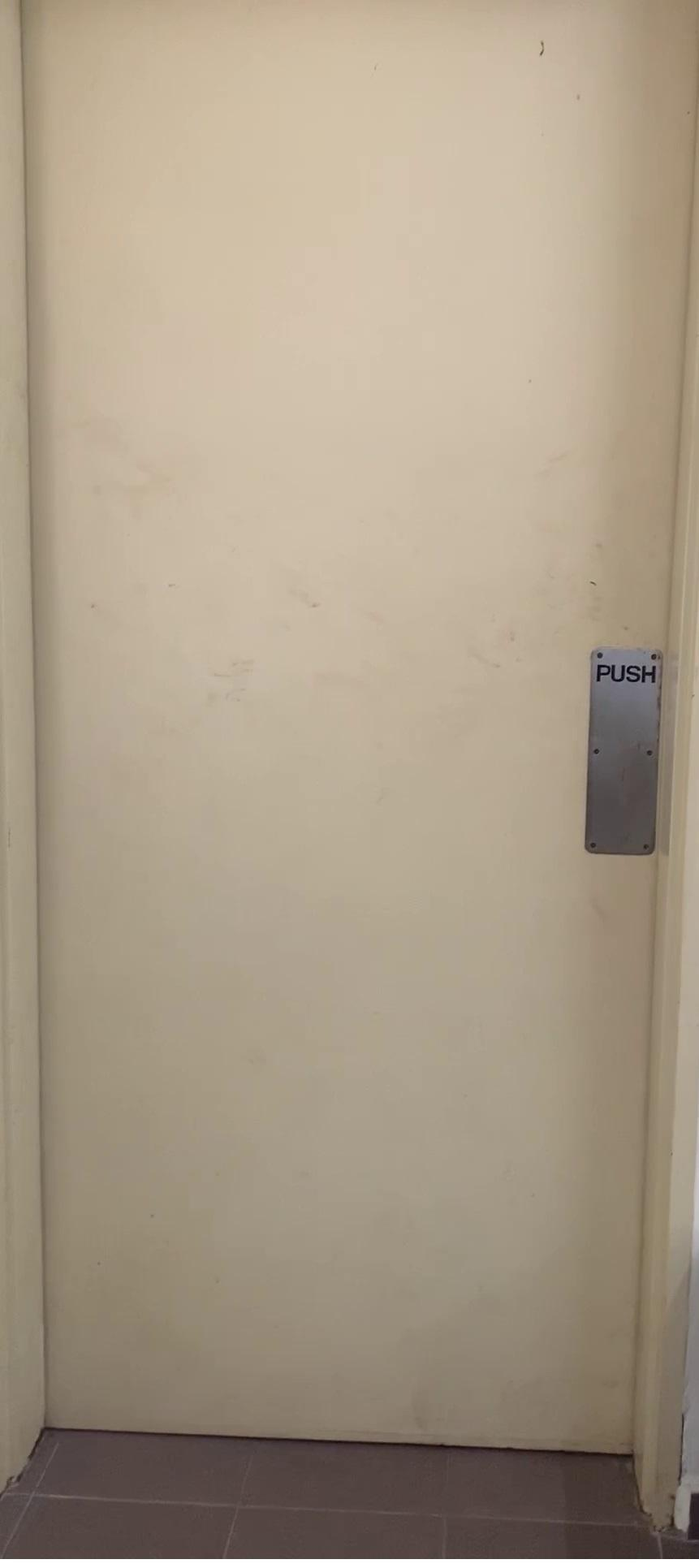door: (5, 0, 668, 1459)
